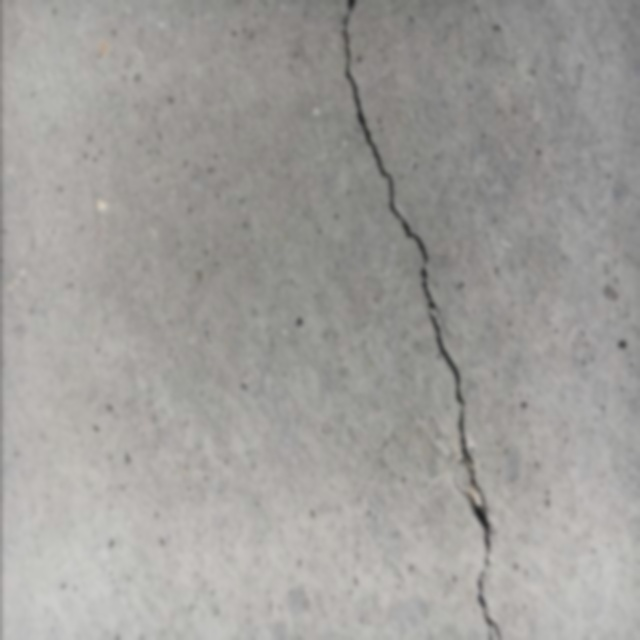SurfaceCrack: (306, 0, 537, 639)
